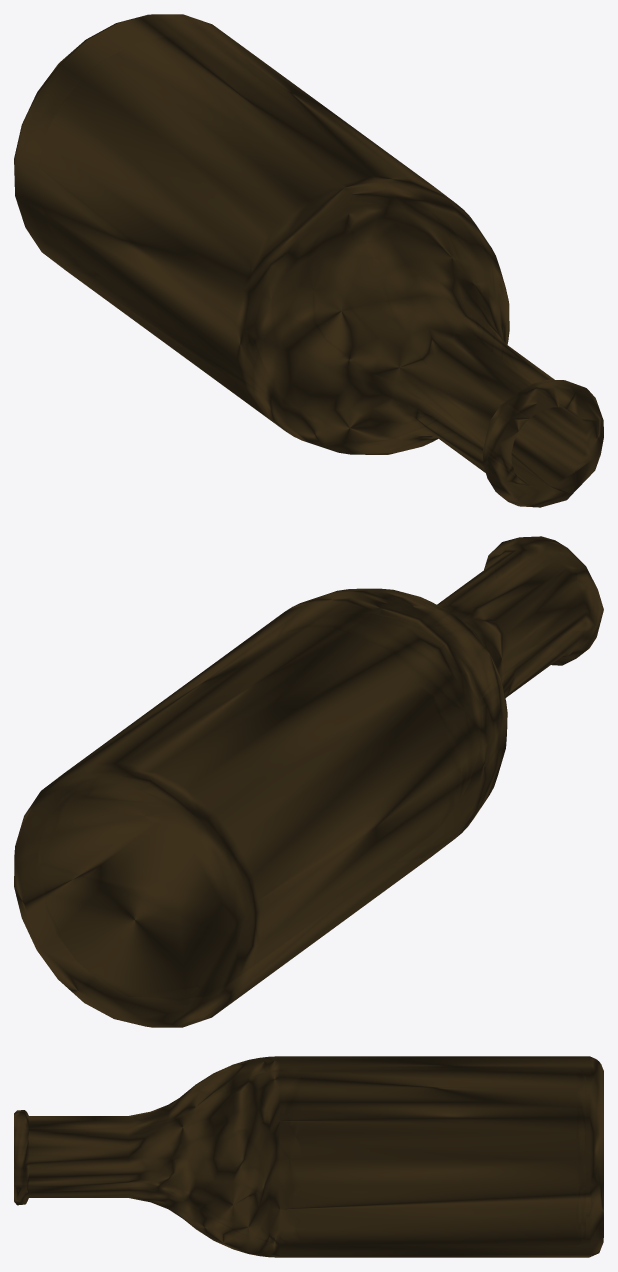
Rendered from model_align.obj.
3 views of the same model, one above another, from view 1: azimuth 30°, elevation 25°; view 2: azimuth 150°, elevation 25°; view 3: azimuth 270°, elevation 25° (orthographic). The views are drawn at different scales.
Bounding box in the file's own units: 0.0929 × 0.0929 × 0.2739.
